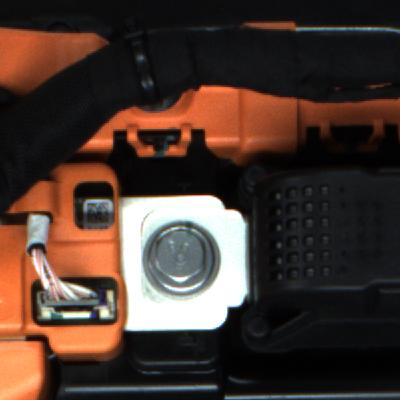nut_b: (135, 212, 243, 304)
